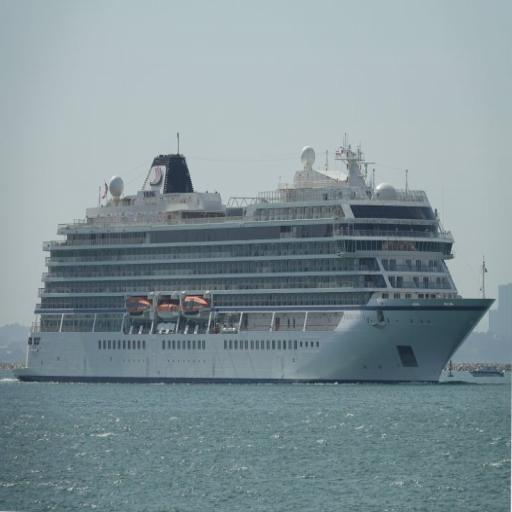cruises: (12, 127, 499, 392)
